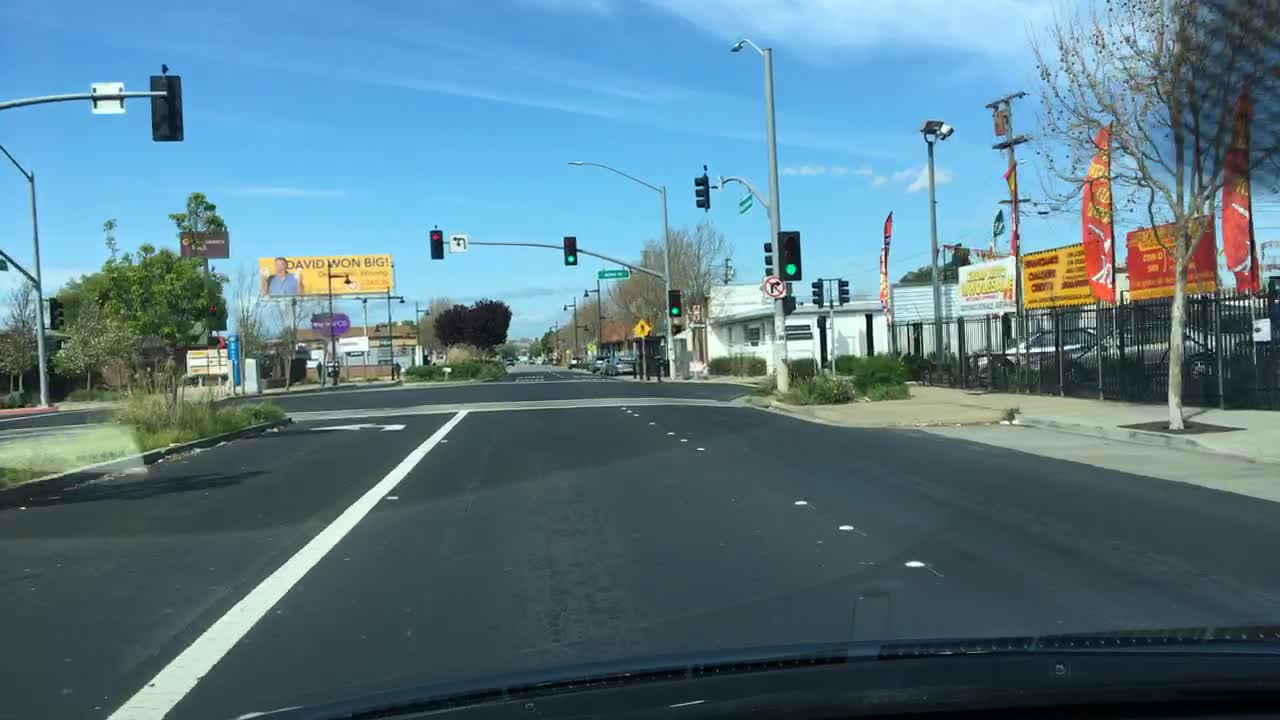car: (1065, 317, 1239, 391), (975, 326, 1103, 389), (601, 350, 636, 376), (588, 353, 613, 373), (567, 355, 584, 369), (504, 353, 518, 367), (527, 355, 535, 366)
person: (394, 362, 402, 378)
traffic light: (148, 75, 185, 142), (777, 231, 801, 279), (694, 173, 710, 211), (561, 233, 576, 267), (761, 241, 775, 276), (429, 230, 445, 258), (810, 278, 825, 305), (668, 292, 683, 317), (838, 277, 849, 306), (55, 302, 65, 328)
traffic sign: (90, 81, 125, 115), (448, 232, 471, 255), (762, 277, 786, 298), (595, 268, 632, 281), (736, 191, 753, 216), (633, 318, 653, 338), (1252, 320, 1272, 340), (787, 333, 813, 342), (692, 299, 702, 321), (783, 324, 813, 331), (584, 339, 596, 353), (687, 321, 706, 329), (0, 258, 8, 275)
